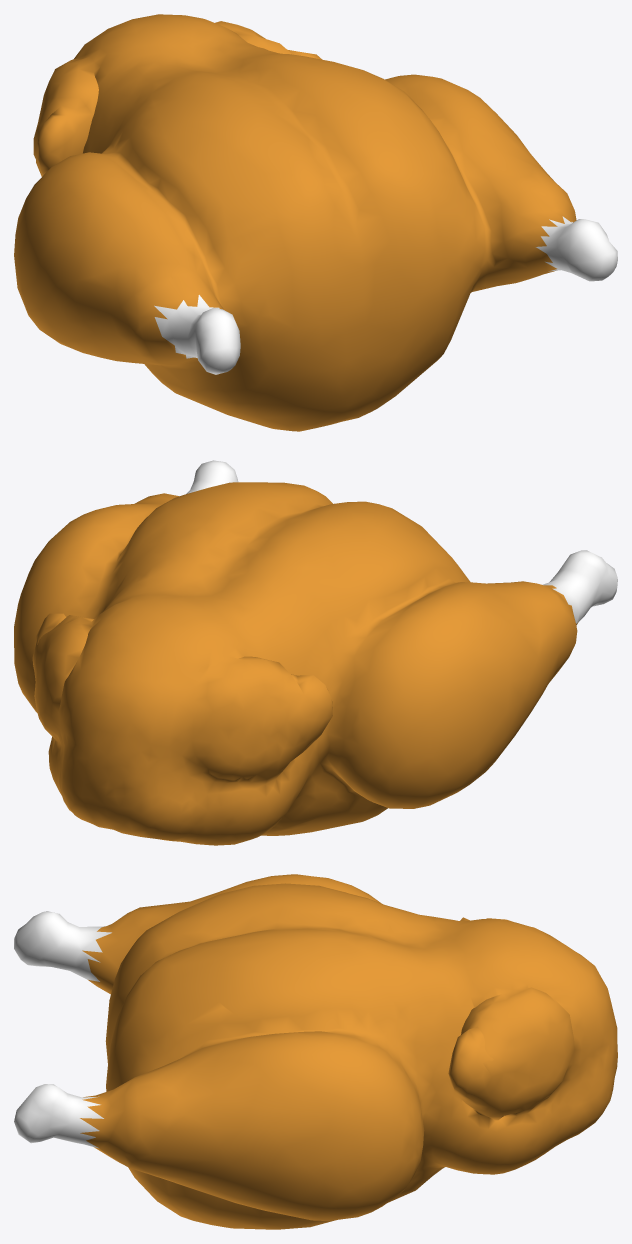
File: chicken.glb
The picture shows the model from 3 angles, top to bottom: view 1: azimuth 30°, elevation 25°; view 2: azimuth 150°, elevation 25°; view 3: azimuth 270°, elevation 25°; orthographic projection. The views are drawn at different scales.
Visible parts, largest first — view 1: Object_3, Object_2; view 2: Object_3, Object_2; view 3: Object_3, Object_2.
Part boxes in pixels (x1,y1,x2,y2): Object_3: (14, 14, 576, 431); Object_2: (154, 216, 617, 374); Object_3: (14, 482, 578, 845); Object_2: (186, 460, 617, 623); Object_3: (80, 874, 617, 1229); Object_2: (14, 911, 111, 1148).
Size of the model in its own units: 4.71 by 2.92 by 5.43.
2 materials, 1 textured.
